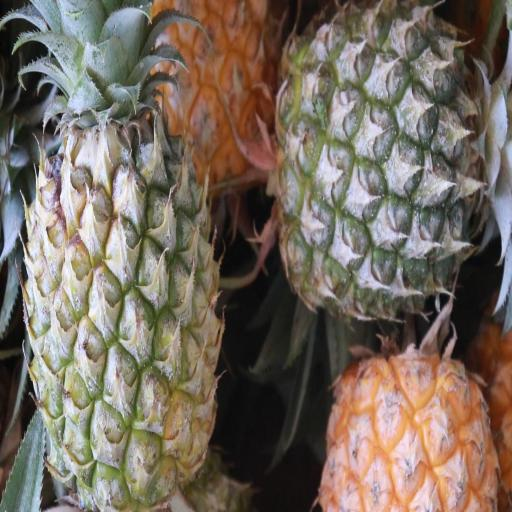Pineapple - v8 v1: (312, 348, 499, 512), (154, 0, 276, 186)
